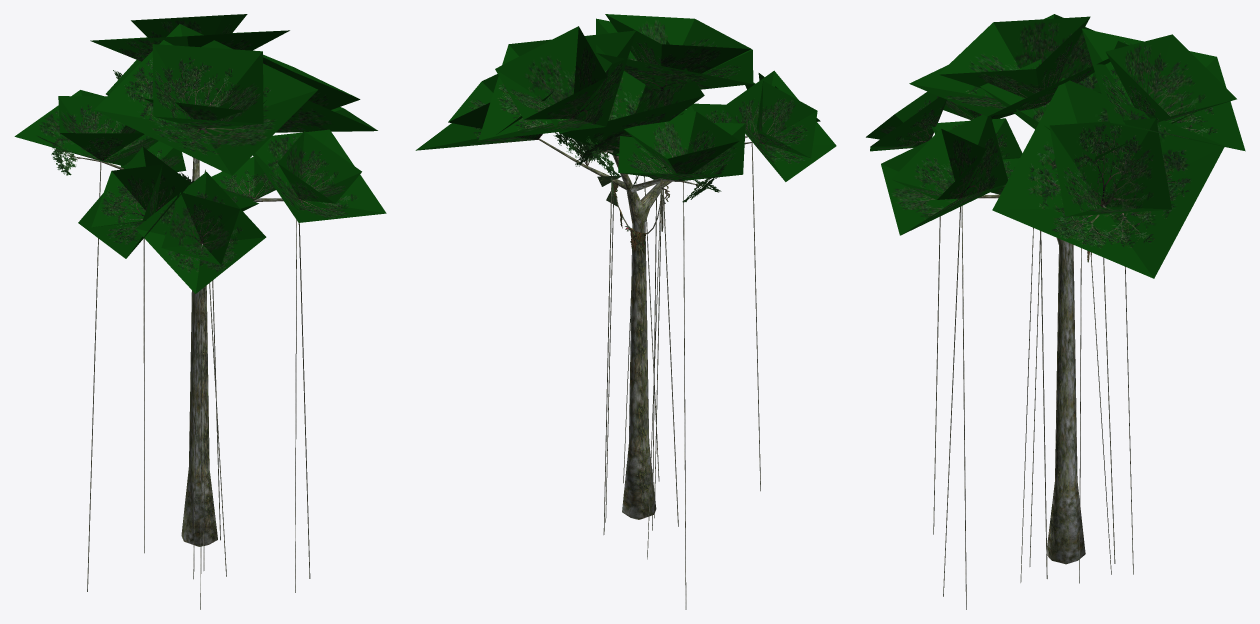
File: decd_treecanopy_l0.fbx
3 views of the same model, side by side, from view 1: azimuth 30°, elevation 25°; view 2: azimuth 150°, elevation 25°; view 3: azimuth 270°, elevation 25° (orthographic). The views are drawn at different scales.
Visible parts, largest first — view 1: mesh_node; view 2: mesh_node; view 3: mesh_node.
Part boxes in pixels (bbox=[...]): mesh_node: bbox=[14, 14, 386, 609]; mesh_node: bbox=[415, 14, 836, 609]; mesh_node: bbox=[866, 14, 1245, 609].
Bounding box in the file's own units: 21.28 × 34.02 × 20.
